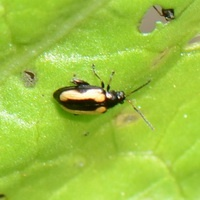insect: (53, 64, 125, 113), (153, 5, 174, 20)
